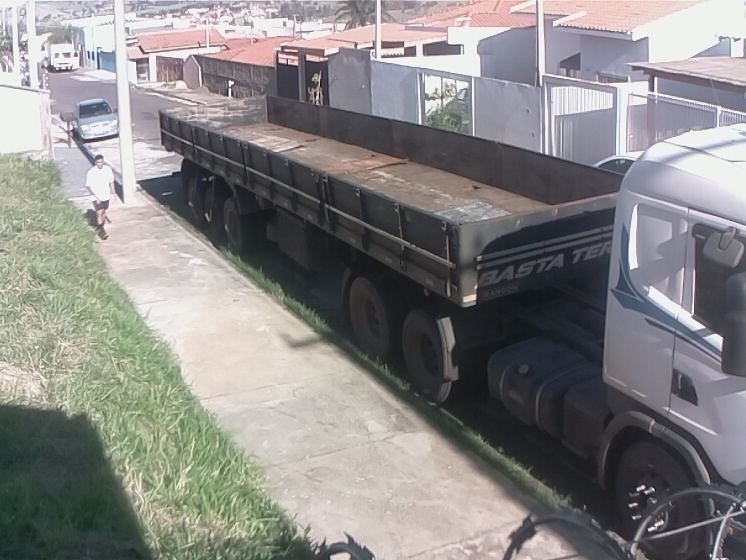person: (84, 154, 121, 243)
